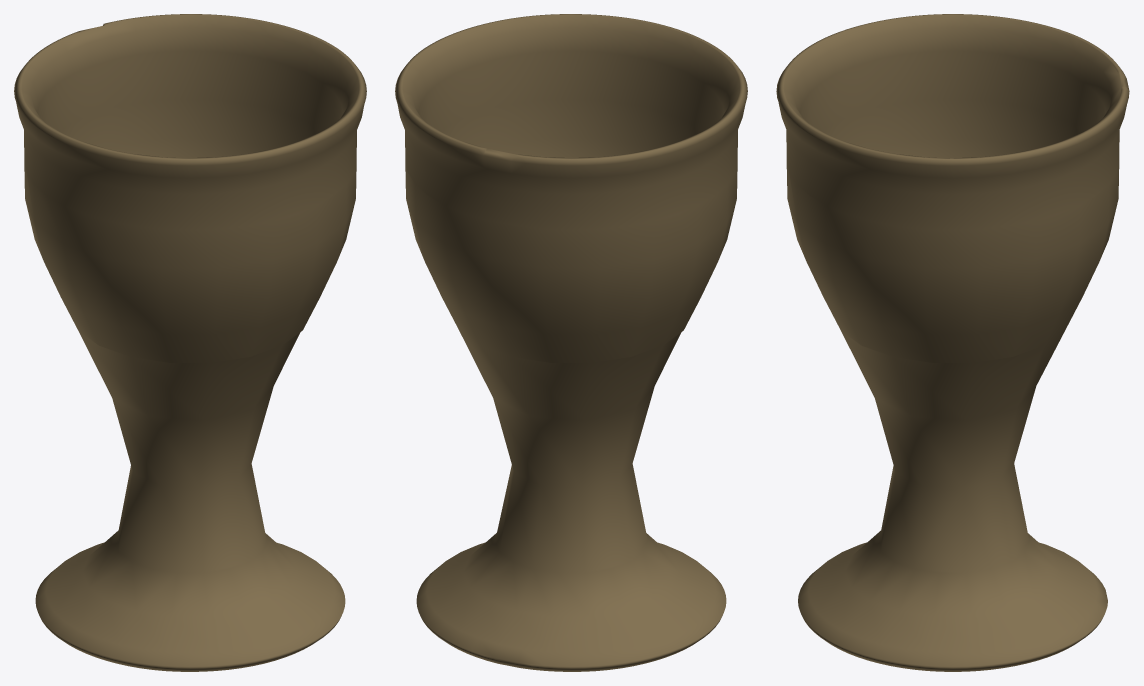
The model's file is Goblet.fbx.
3 renders of one model, left to right at view 1: azimuth 30°, elevation 25°; view 2: azimuth 150°, elevation 25°; view 3: azimuth 270°, elevation 25°, orthographic.
Parts seen in each view (by area): view 1: nurbsToPoly1; view 2: nurbsToPoly1; view 3: nurbsToPoly1.
Part boxes in pixels (<box>): nurbsToPoly1: <box>14,14,366,671</box>; nurbsToPoly1: <box>395,14,747,671</box>; nurbsToPoly1: <box>776,14,1129,671</box>.
Size of the model in its own units: 0.0715 by 0.1193 by 0.0715.
